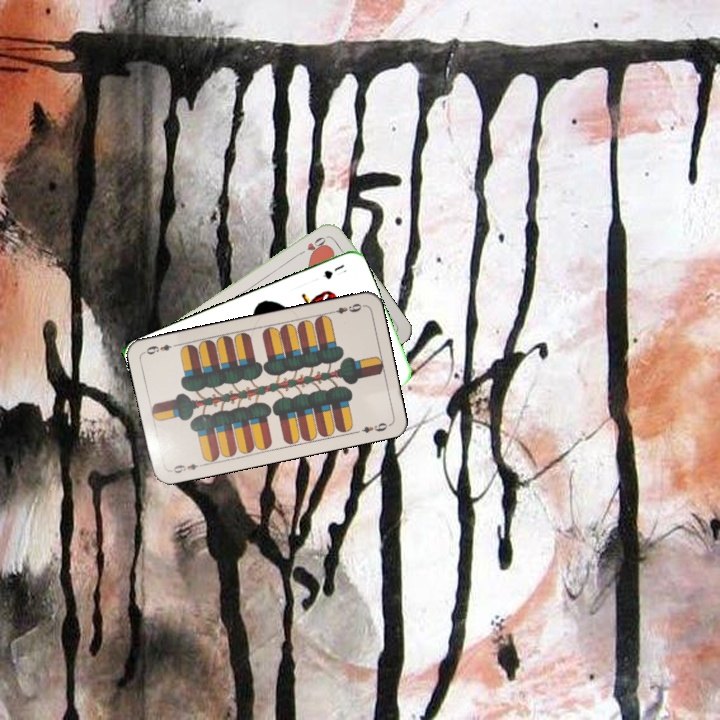E9: (326, 299, 366, 316), (167, 459, 207, 476)
GU: (318, 260, 350, 282)
HO: (293, 232, 330, 258)
